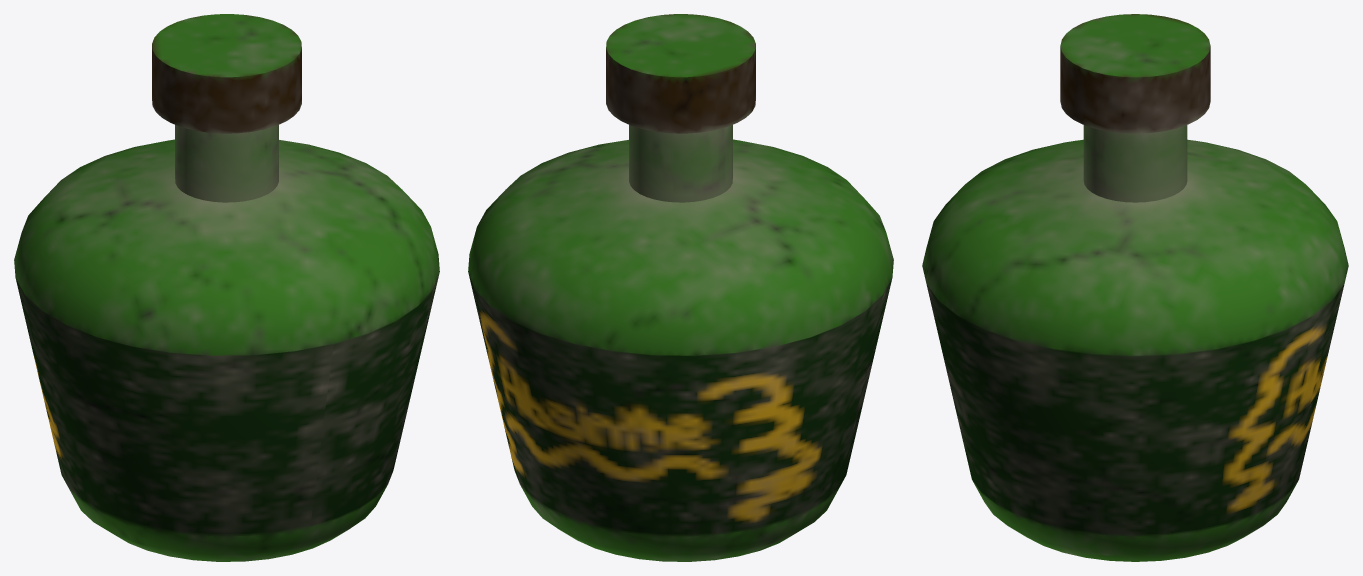
File: AbsintheBottle.fbx
3 views of the same model, side by side, from view 1: azimuth 30°, elevation 25°; view 2: azimuth 150°, elevation 25°; view 3: azimuth 270°, elevation 25° (orthographic).
Parts seen in each view (by area): view 1: absintheBottle; view 2: absintheBottle; view 3: absintheBottle.
Part boxes in pixels (x1,y1,x2,y2): absintheBottle: (14,14,439,561); absintheBottle: (468,14,893,561); absintheBottle: (922,14,1348,561).
Size of the model in its own units: 0.5208 by 0.6297 by 0.5208.
